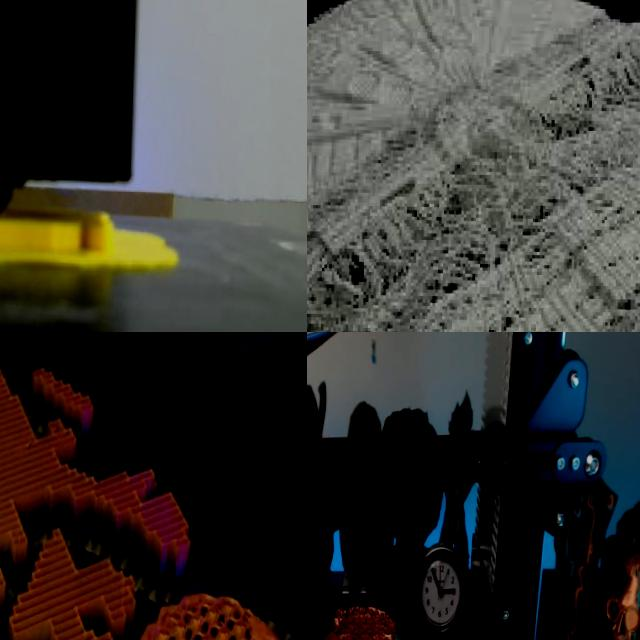spaghetti: (307, 19, 640, 332)
